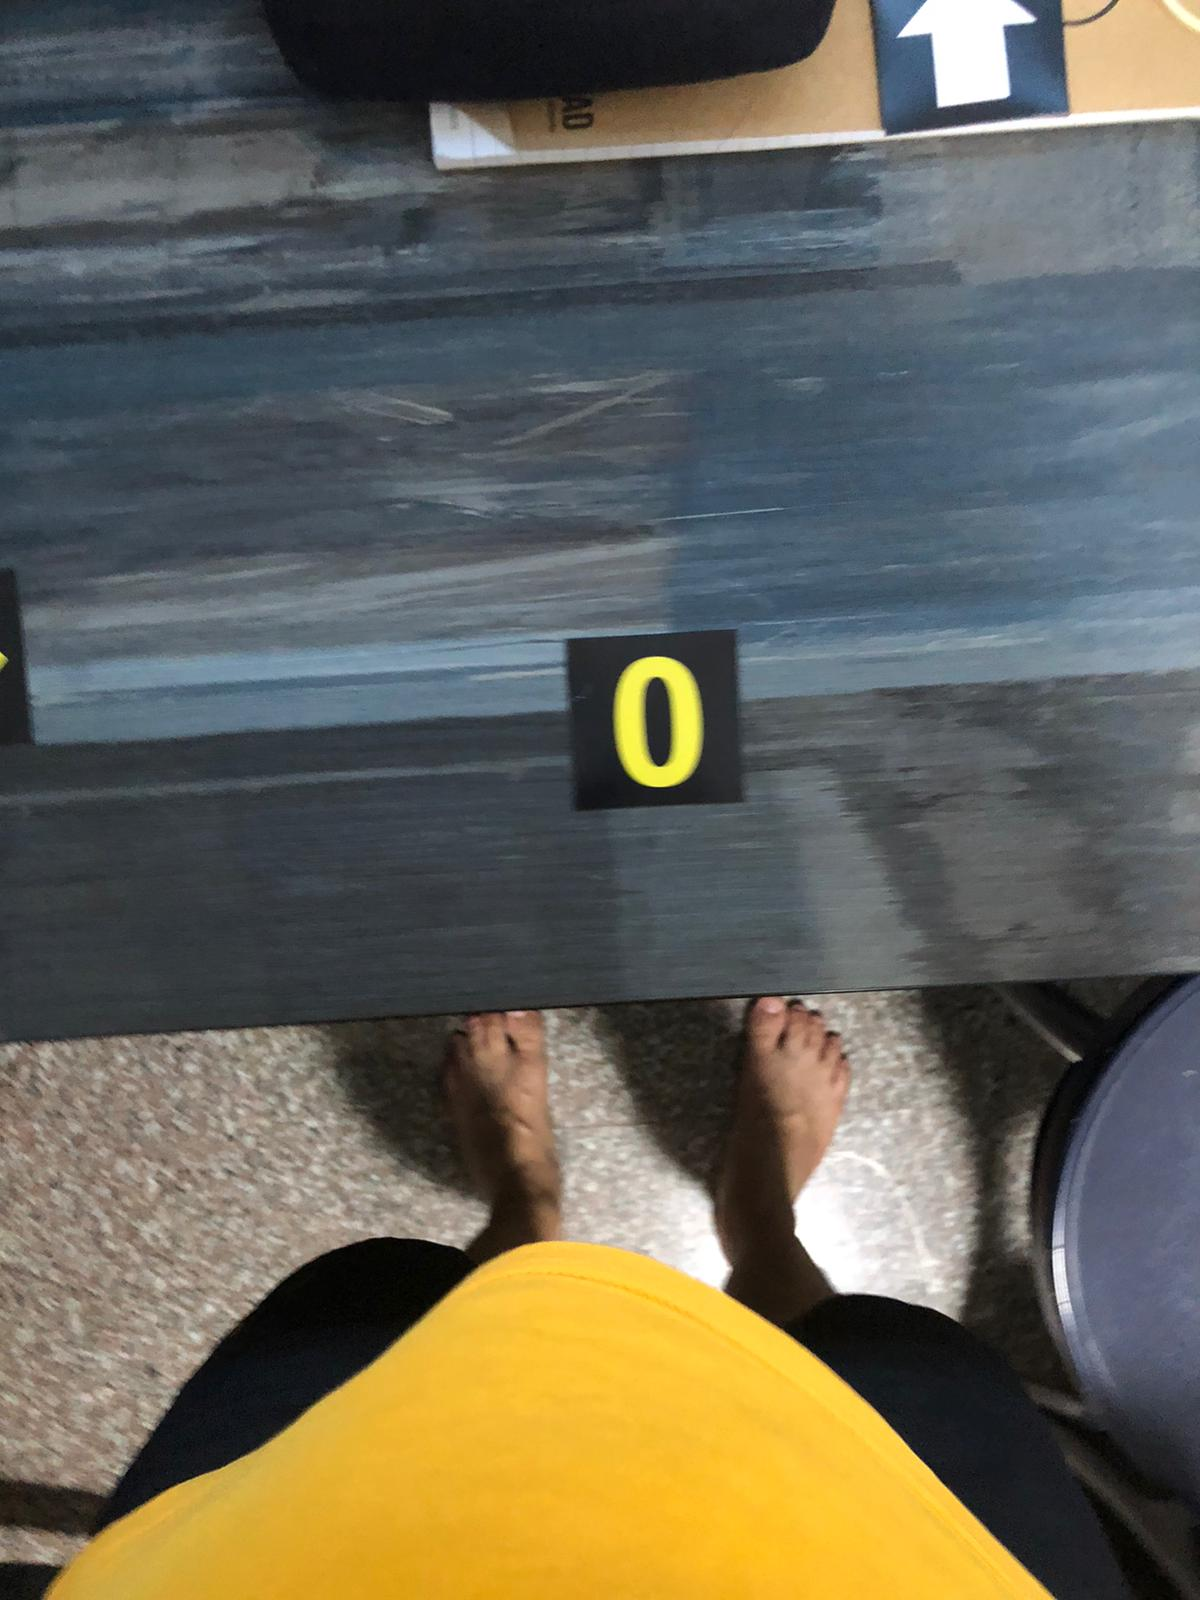Number 0: (570, 646, 732, 803)
